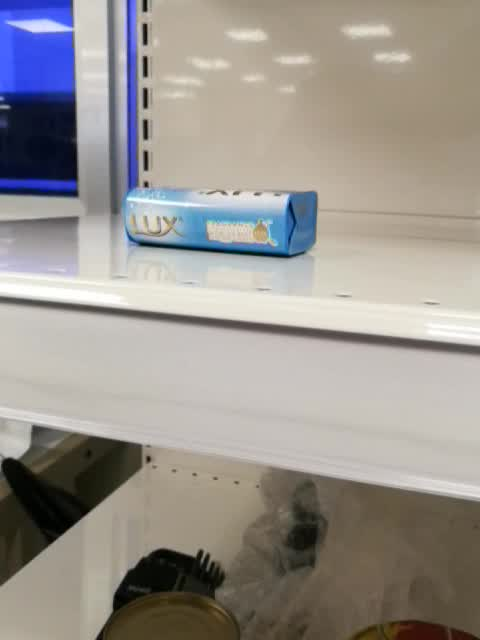soap: (122, 186, 319, 260)
